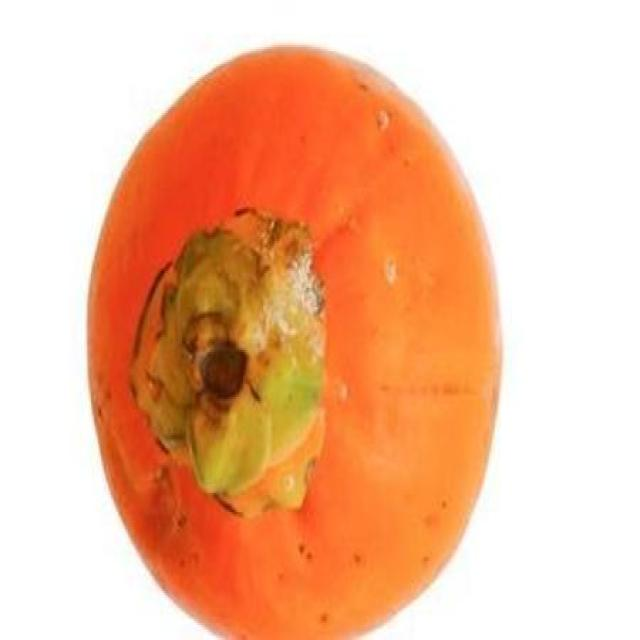good: (84, 45, 506, 638)
